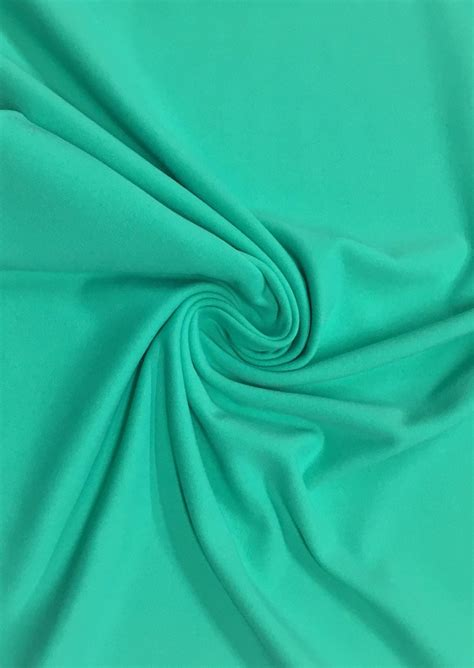nylon: (1, 2, 474, 668)
